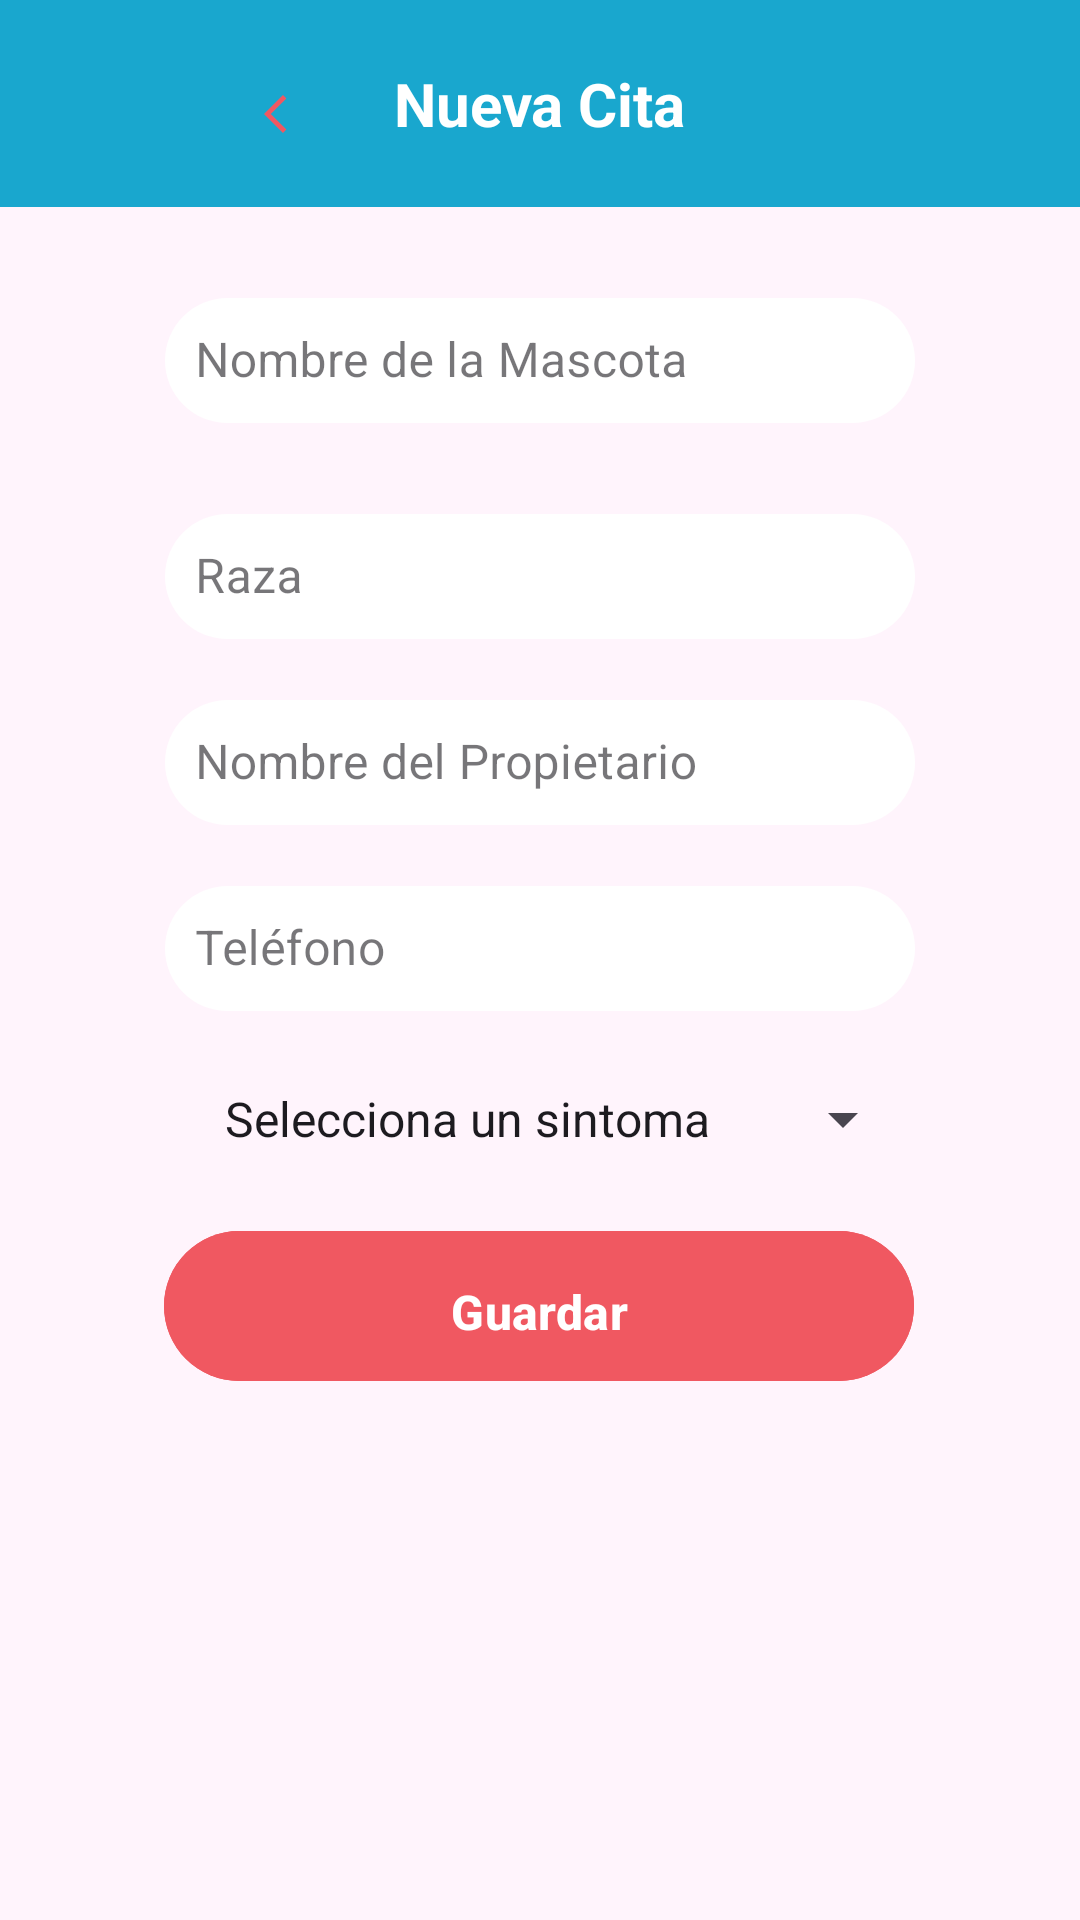

Screen size 1080 × 1920. Icon name, then its box in pixels as (x1, y1, x2, y2):
back: (264, 95, 287, 133)
